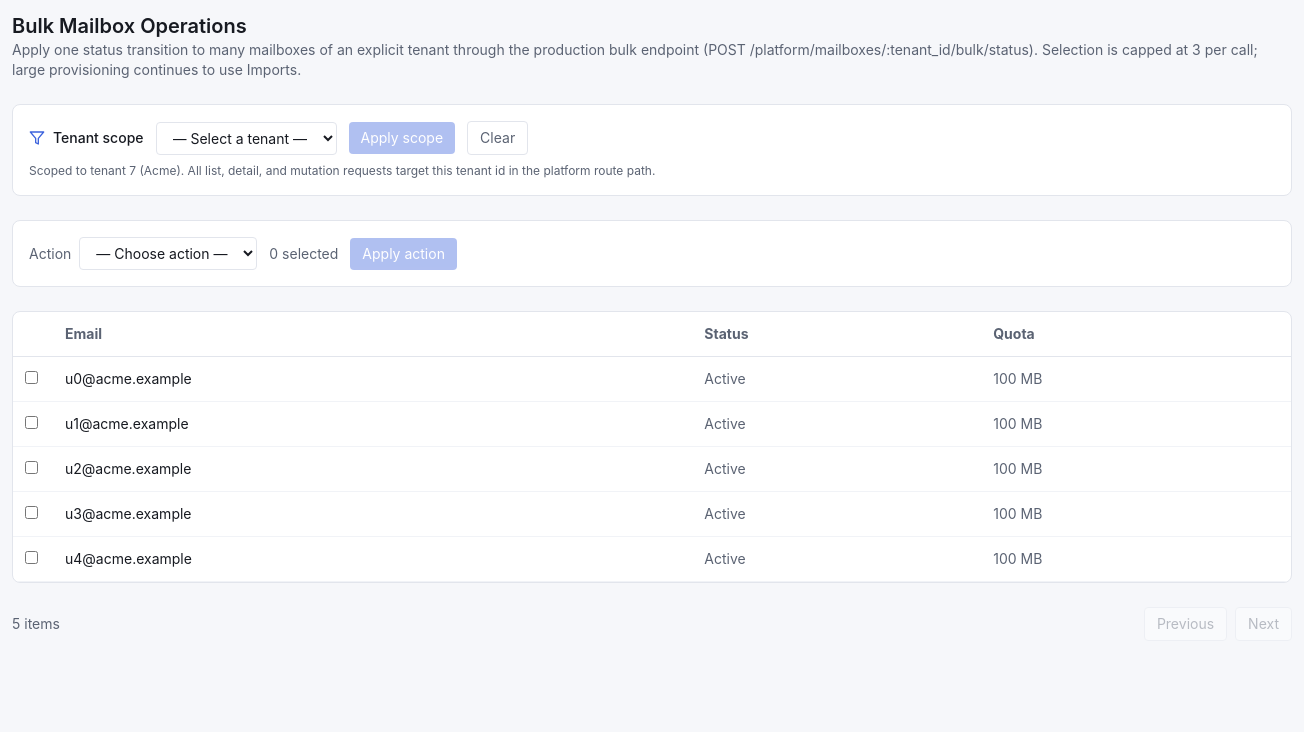
Test: features/platform/bulk-mailboxes › enforces the bounded maximum selection
Click the checkbox named "Select mailbox 1000".
click(32, 378)  # box [25,371,38,384]
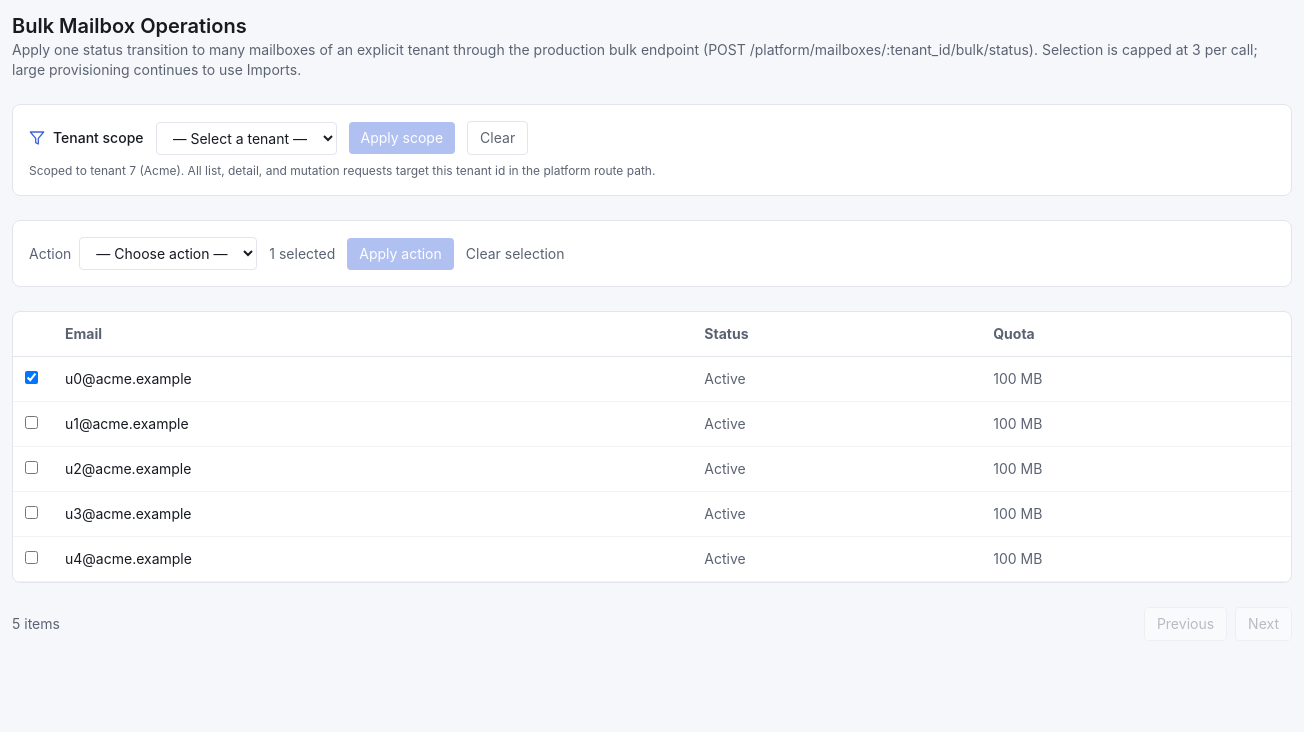
Click the checkbox named "Select mailbox 1001".
click(32, 422)  # box [25,416,38,429]
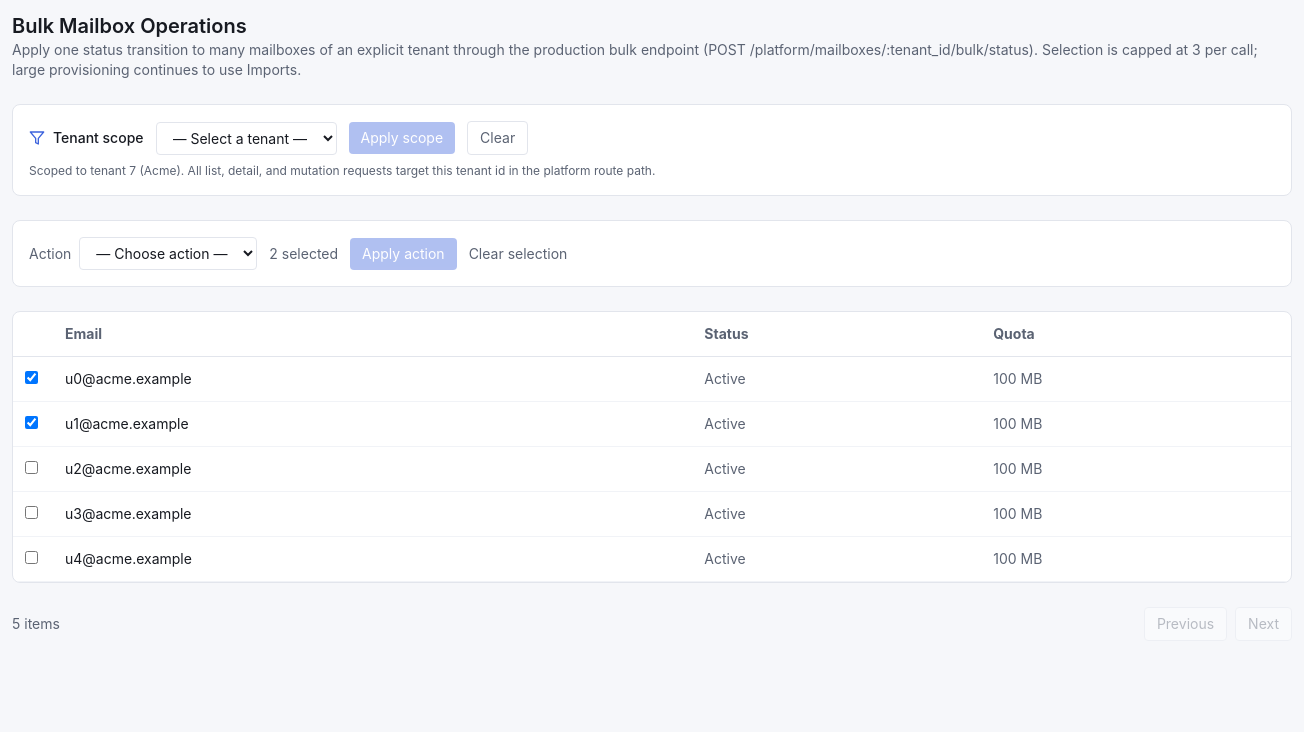
Click the checkbox named "Select mailbox 1002".
click(32, 468)  # box [25,461,38,474]
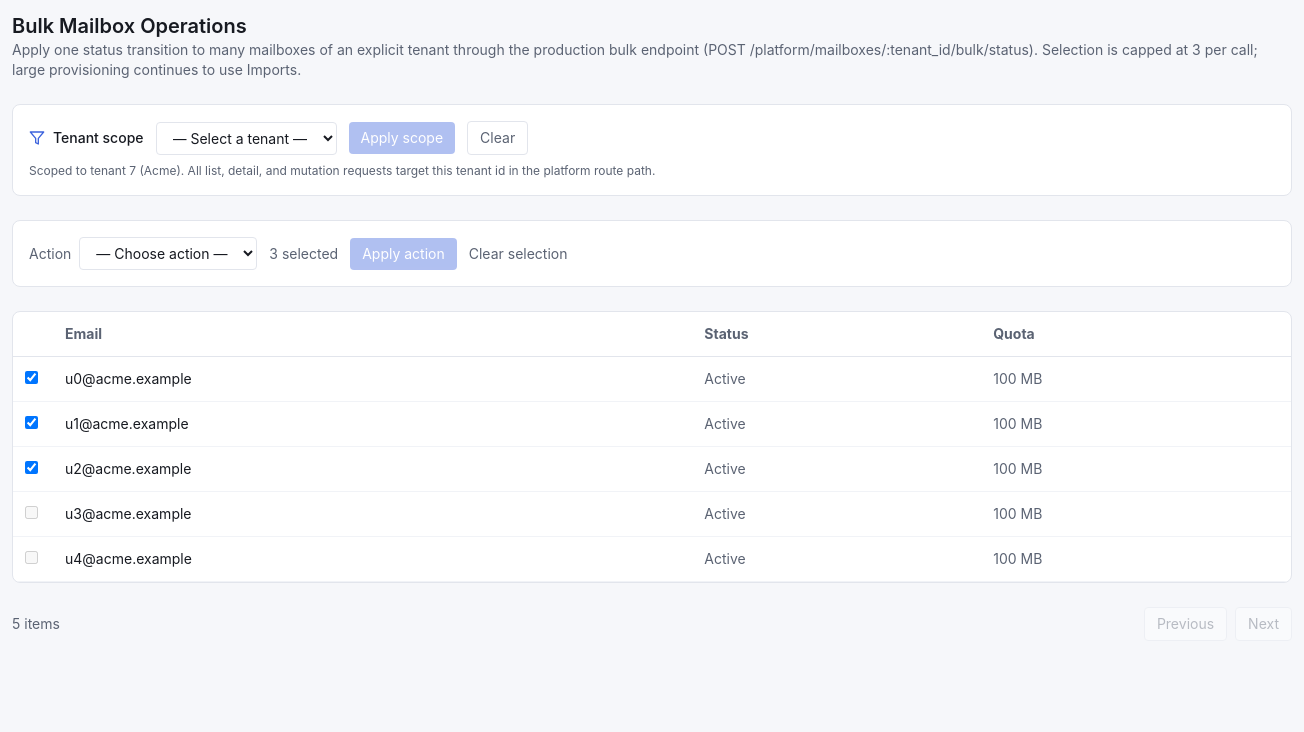
Result: the text "3 selected" is shown at [269,244,338,264]
Result: the checkbox named "Select mailbox 1003" is disabled at [25,506,38,519]
Result: the checkbox named "Select mailbox 1004" is disabled at [25,551,38,564]
